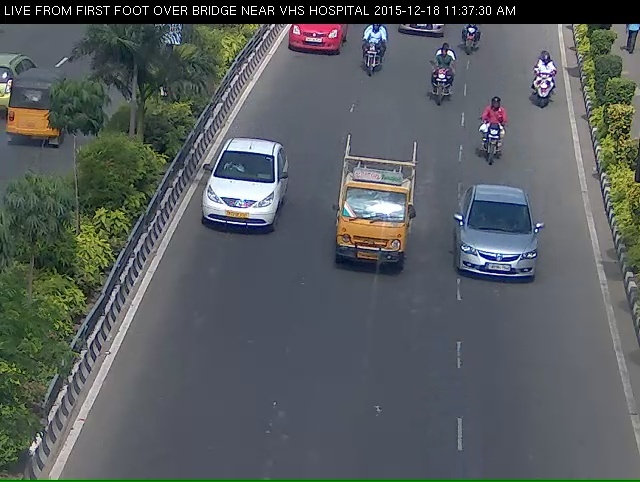Car: (330, 139, 418, 296), (201, 140, 280, 259), (451, 207, 547, 302), (281, 24, 338, 59), (395, 17, 452, 47)
Person: (522, 56, 563, 114), (482, 107, 511, 177), (426, 52, 455, 115), (459, 24, 492, 72), (360, 27, 386, 84)
